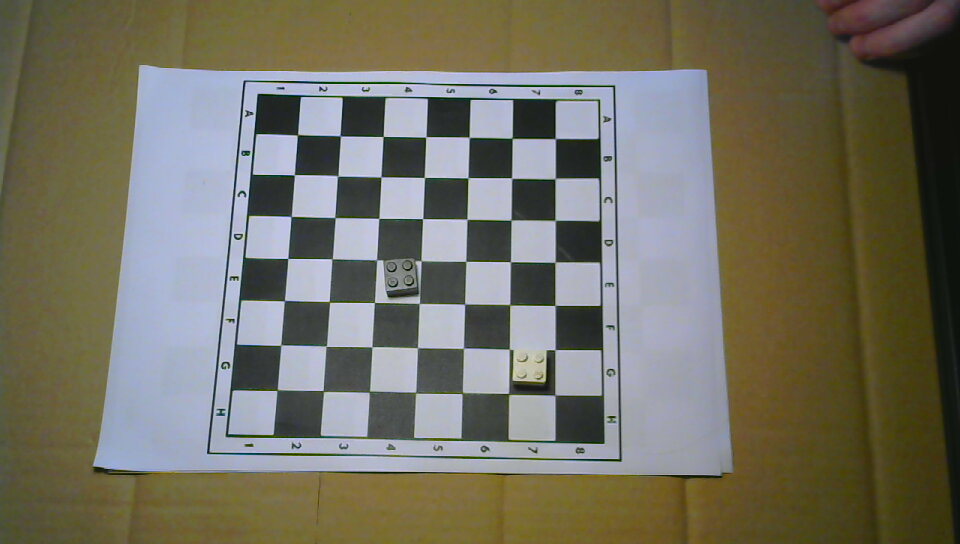bp: (381, 256, 420, 299)
wp: (509, 347, 549, 387)
